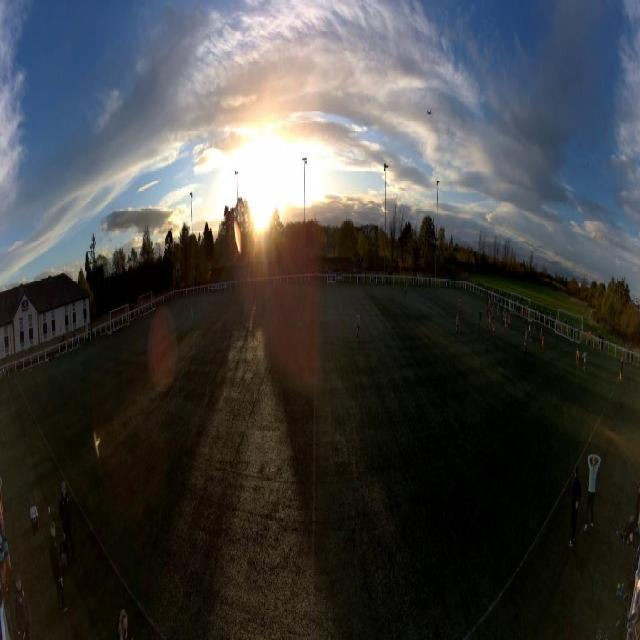player: (355, 308, 360, 344), (582, 351, 587, 373), (523, 329, 528, 351), (456, 311, 459, 339), (478, 309, 482, 329), (492, 317, 495, 343), (539, 326, 543, 344), (576, 349, 579, 371), (541, 333, 544, 353), (489, 309, 492, 329), (504, 314, 507, 333), (533, 321, 536, 339), (459, 293, 462, 311), (529, 323, 532, 341), (507, 310, 510, 327), (405, 281, 408, 297), (485, 303, 488, 318), (496, 304, 499, 319), (502, 309, 505, 324), (191, 308, 193, 329), (524, 308, 526, 325), (492, 305, 494, 317)
